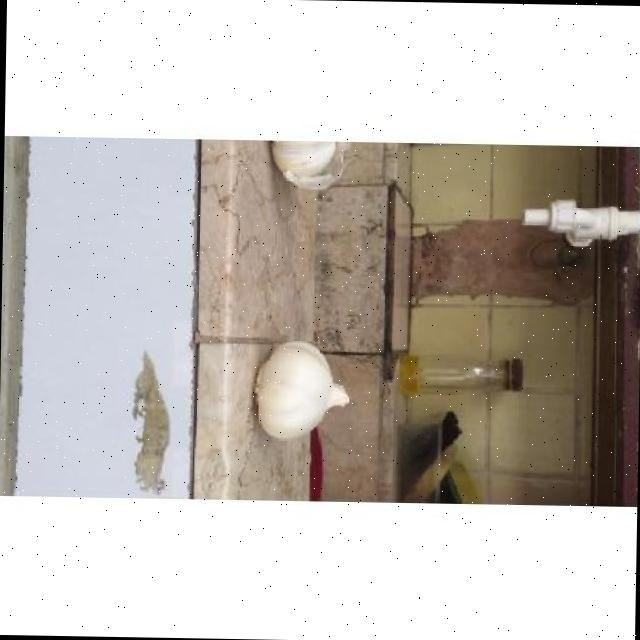garlic: (254, 341, 347, 439), (271, 140, 343, 190)
